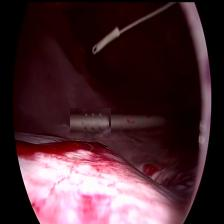Irrigator: (69, 107, 110, 137)
